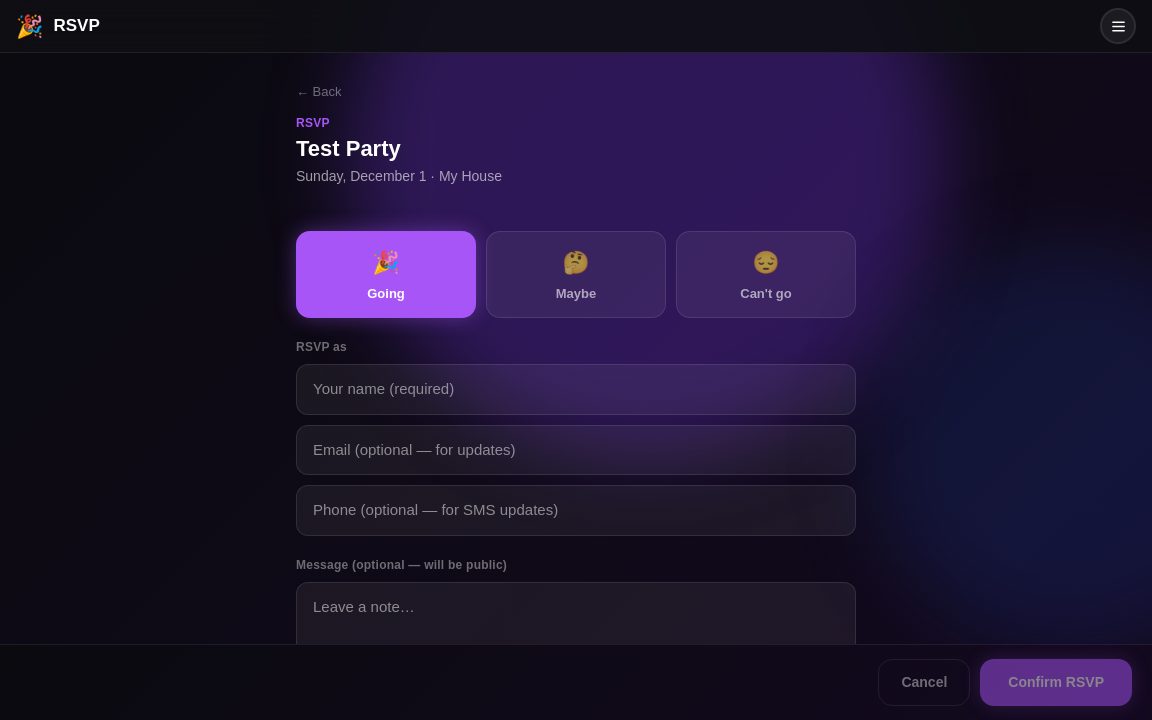
RsvpFlow — new RSVP › submit button is enabled after typing a name
The image size is (1152, 720).
Type "Alice" into the field with placeholder "Your name (required)" at (576, 390), box [296, 364, 856, 415]
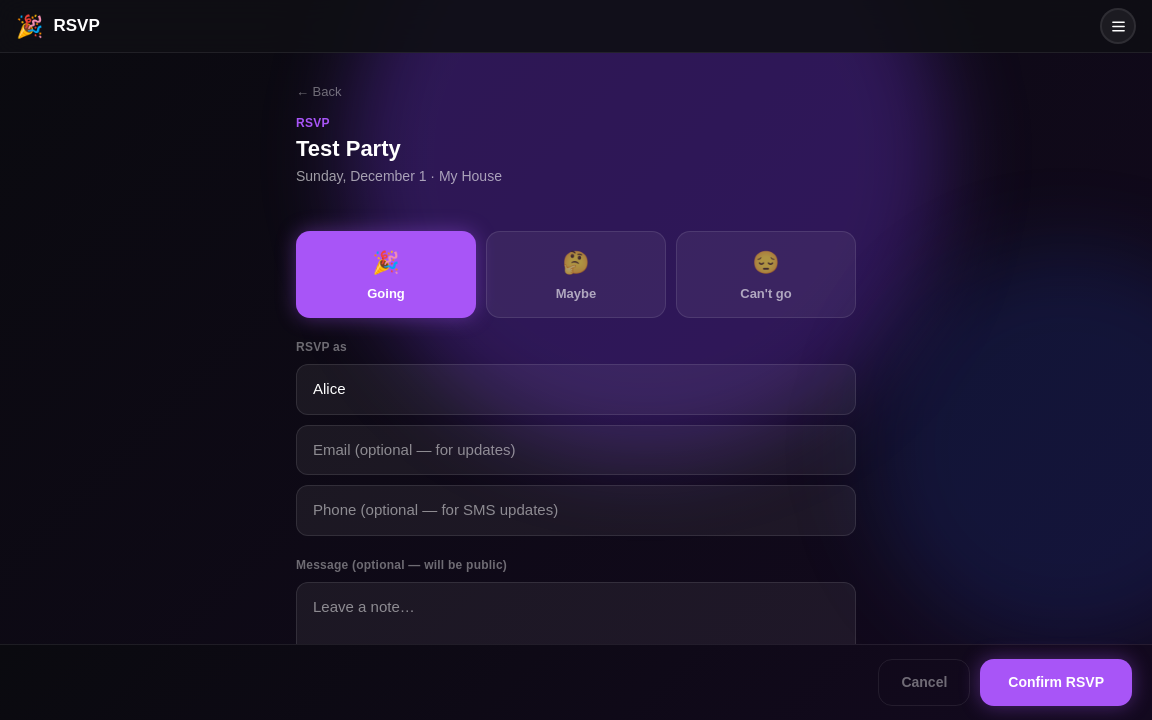
Check: the button "Confirm RSVP" is enabled, box [980, 659, 1132, 706]
